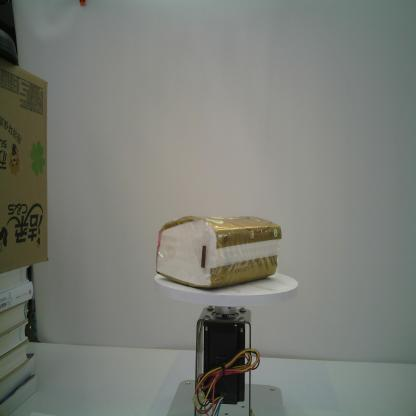Tissue: (155, 215, 282, 289)
